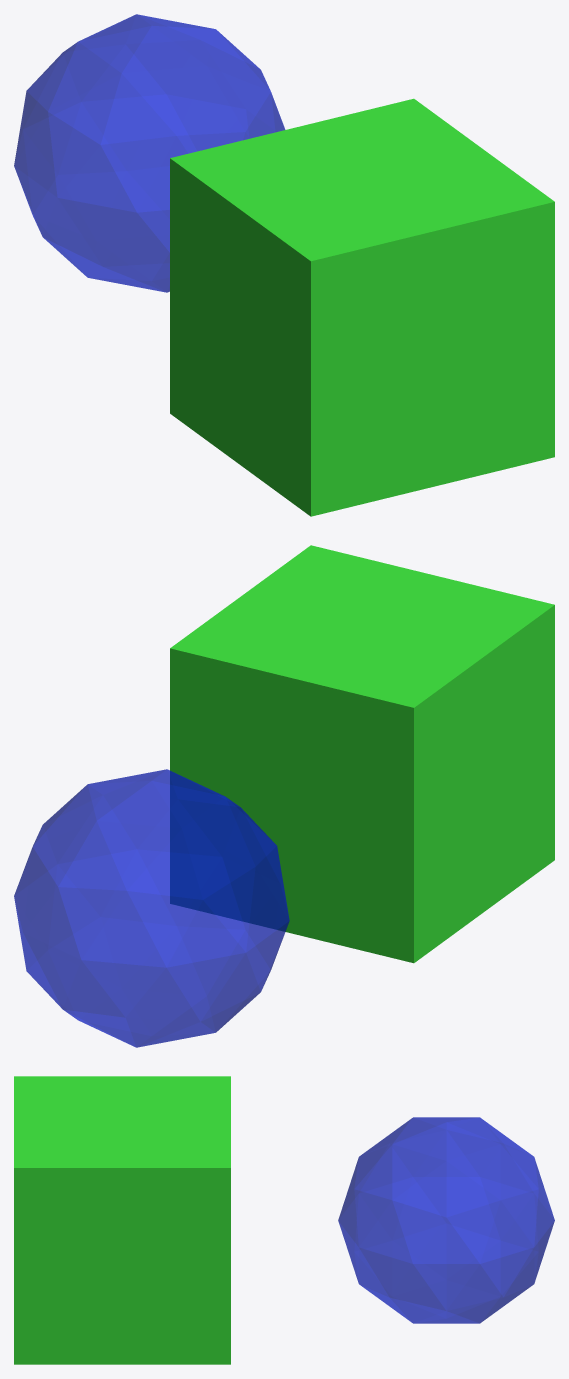
The model's file is scene-debug.fbx.
3 views of the same model, one above another, from view 1: azimuth 30°, elevation 25°; view 2: azimuth 150°, elevation 25°; view 3: azimuth 270°, elevation 25° (orthographic). The views are drawn at different scales.
Visible parts, largest first — view 1: Cube; view 2: Cube; view 3: Cube.
Part boxes in pixels (x1,y1,x2,y2): Cube: (14, 14, 554, 516); Cube: (14, 545, 554, 1047); Cube: (14, 1076, 554, 1364).
Size of the model in its own units: 200 by 200 by 499.
